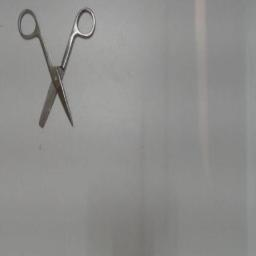Dressing Scissors: (12, 0, 100, 138)
